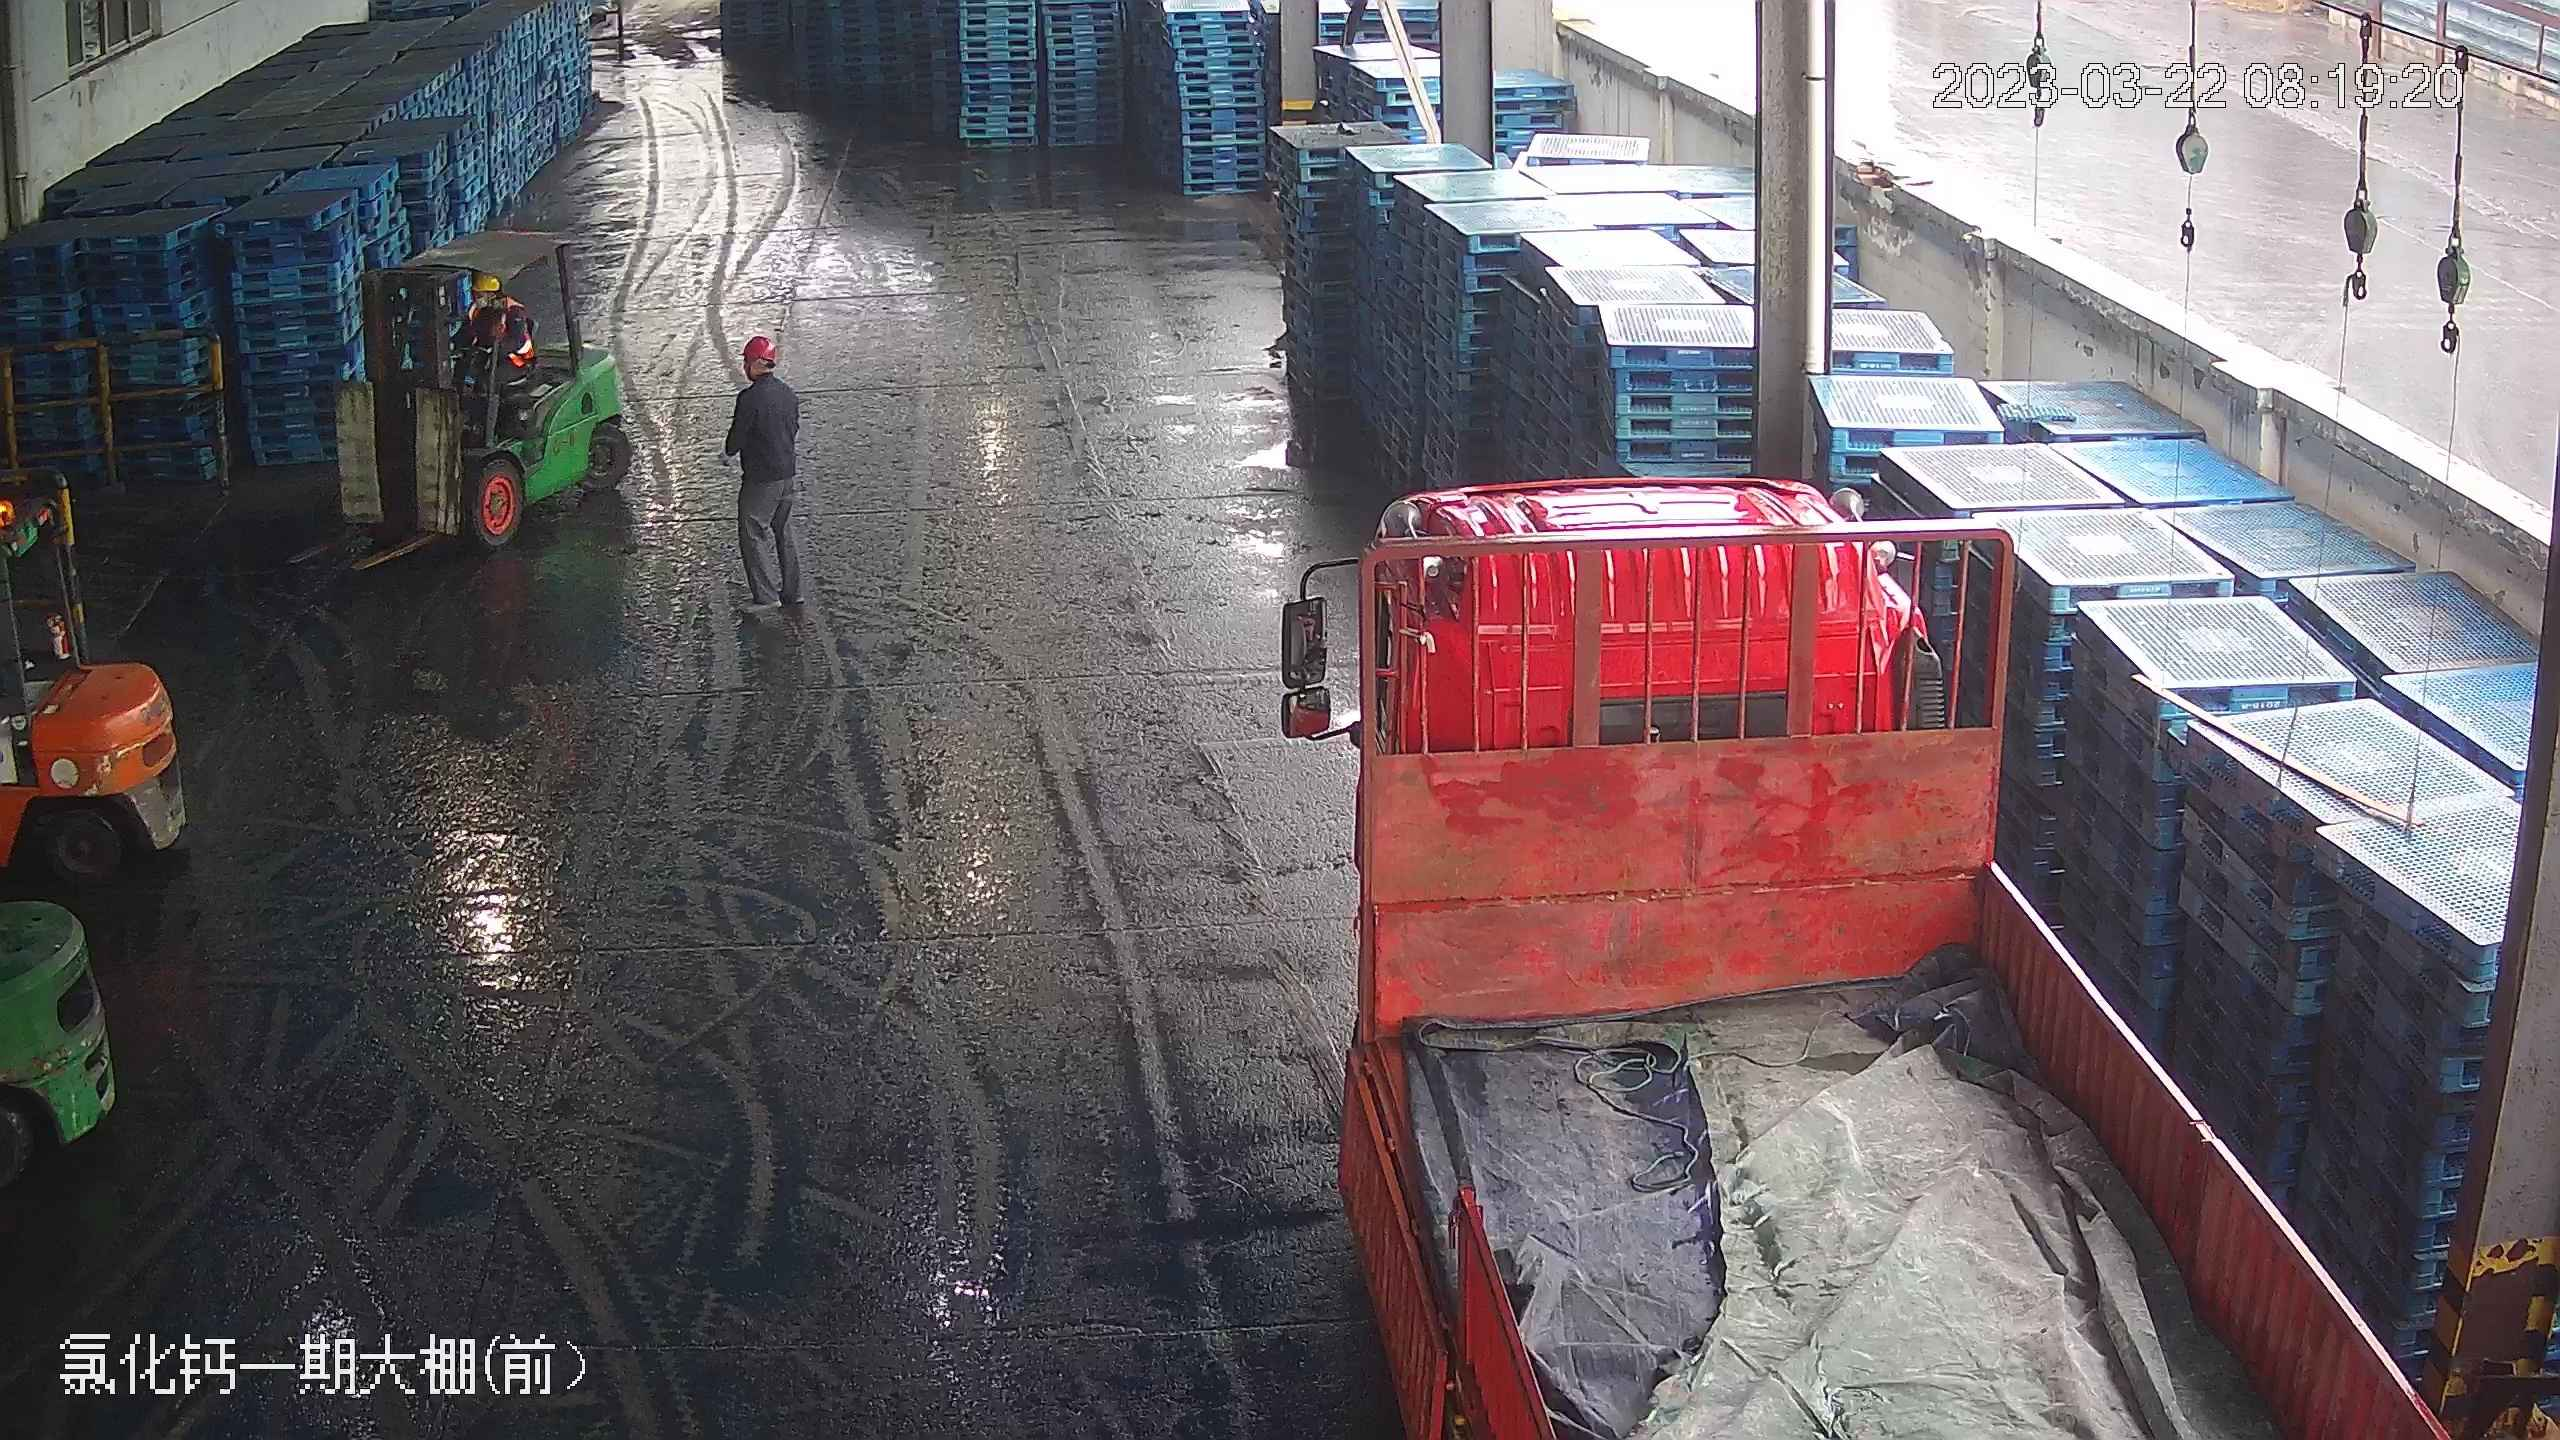head: (720, 329, 807, 619), (725, 329, 801, 417)
helmet: (739, 330, 779, 360), (473, 274, 504, 294)
people: (720, 331, 808, 621)
truck: (1296, 450, 2456, 1440)
